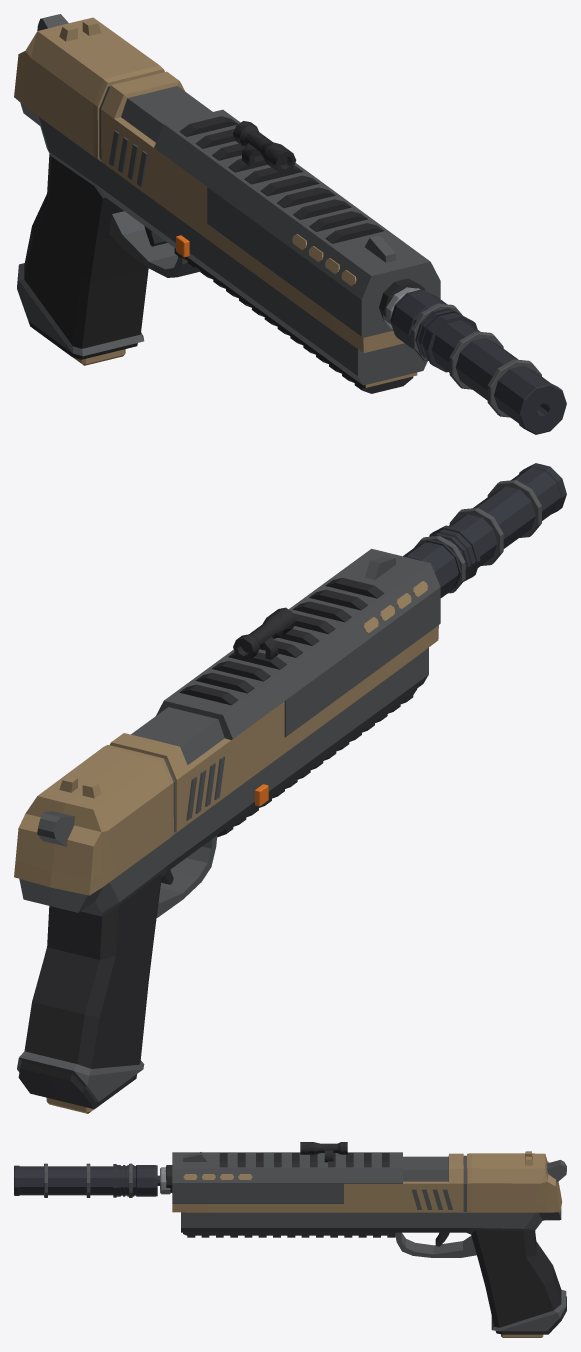
Rendered from silenced_pistol.glb.
3 views of the same model, one above another, from view 1: azimuth 30°, elevation 25°; view 2: azimuth 150°, elevation 25°; view 3: azimuth 270°, elevation 25° (orthographic). The views are drawn at different scales.
Parts seen in each view (by area): view 1: silenced_pistol; view 2: silenced_pistol; view 3: silenced_pistol.
Part boxes in pixels (bbox=[...]): silenced_pistol: bbox=[14, 14, 566, 434]; silenced_pistol: bbox=[14, 463, 566, 1113]; silenced_pistol: bbox=[14, 1142, 566, 1337].
Size of the model in its own units: 0.0389 by 0.1557 by 0.41.
